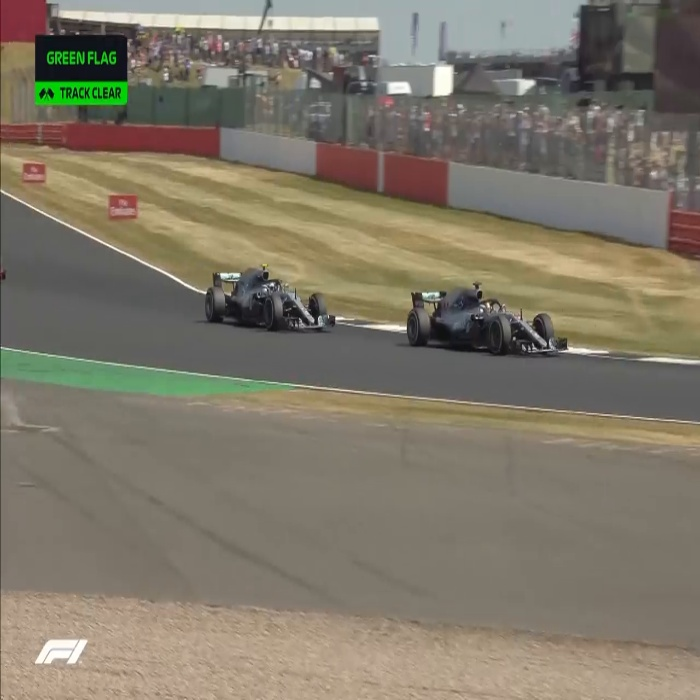f1_car: (398, 279, 577, 370), (196, 256, 339, 341)
